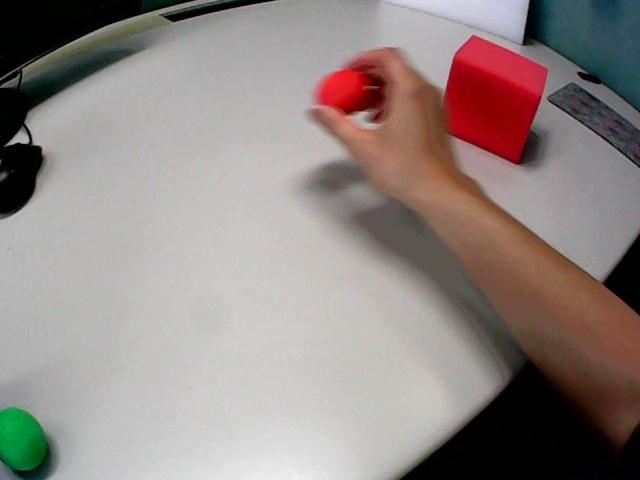red_block: (444, 36, 547, 162)
